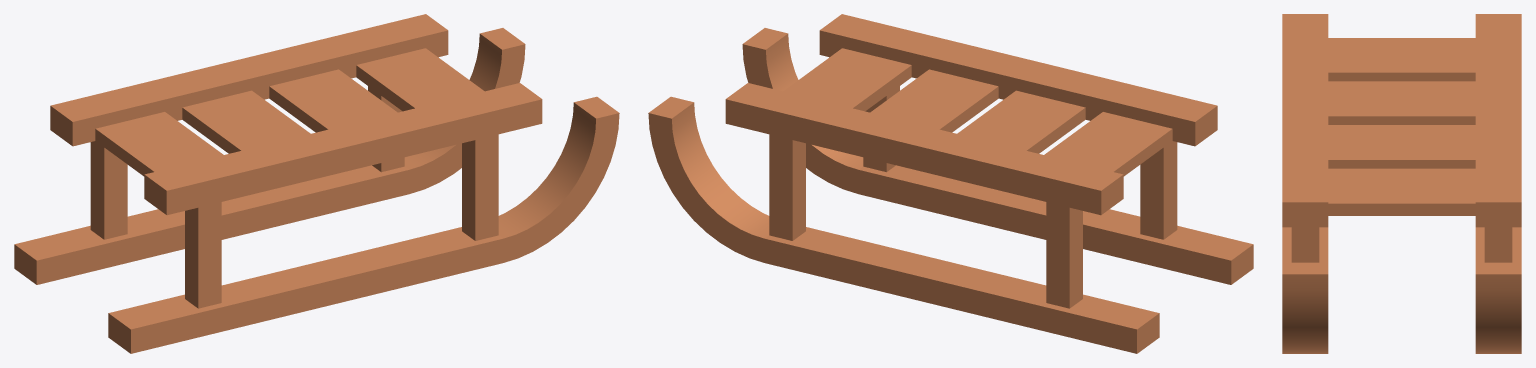
The model's file is sled.fbx.
The picture shows the model from 3 angles, left to right: view 1: azimuth 30°, elevation 25°; view 2: azimuth 150°, elevation 25°; view 3: azimuth 270°, elevation 25°; orthographic projection. The views are drawn at different scales.
Visible parts, largest first — view 1: sled; view 2: sled; view 3: sled.
Part boxes in pixels (x1=…): sled: x1=14, y1=14, x2=619, y2=353; sled: x1=648, y1=14, x2=1253, y2=353; sled: x1=1282, y1=14, x2=1521, y2=353.
Size of the model in its own units: 6.3 by 1.9 by 2.6.
